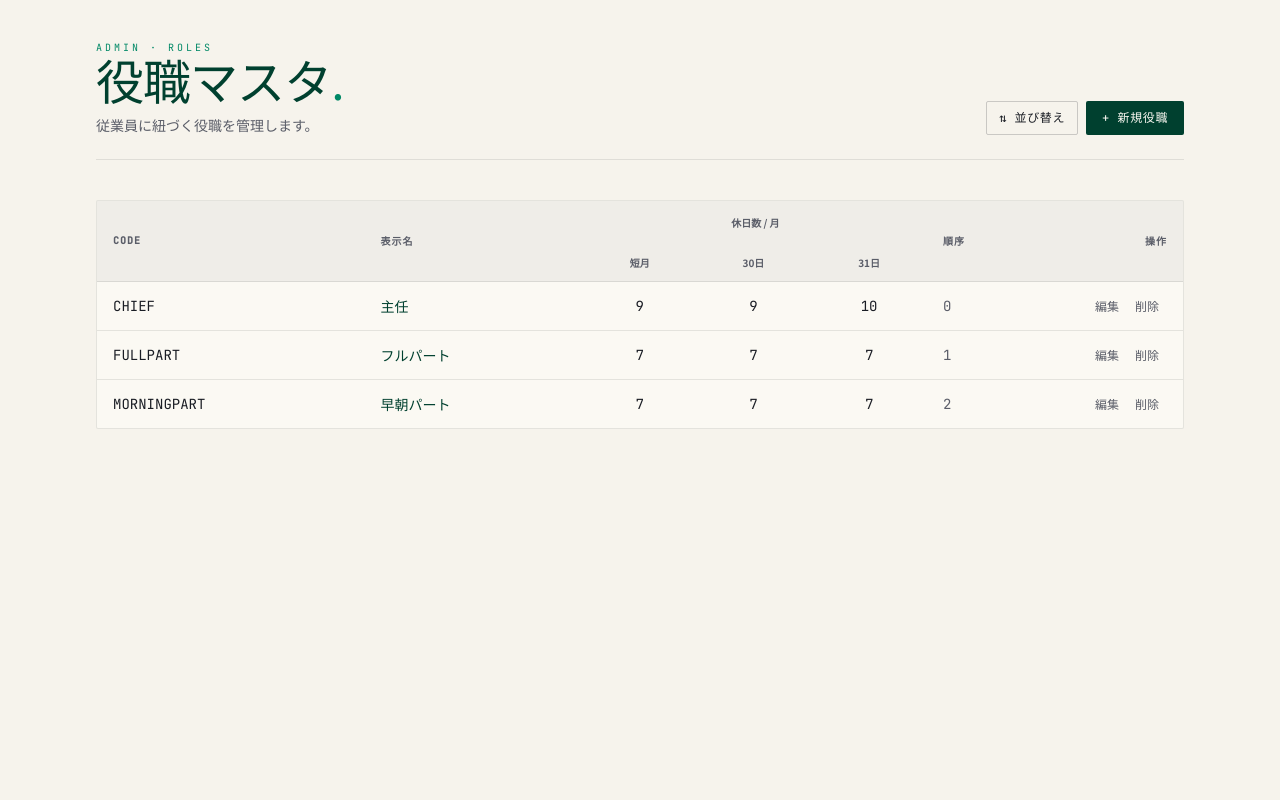
Scenario: RolesPage — modal edit (issue #235) › 編集 で modal が開き、3 input に現在値がプリフィルされる
The width and height of the screenshot is (1280, 800).
Check: the text "主任" is shown, box [364,282,584,330]
Note: CHIEF 行の編集ボタン
Click the button "編集" in the row of "CHIEF".
click(1107, 306)  # box [1087,294,1127,318]
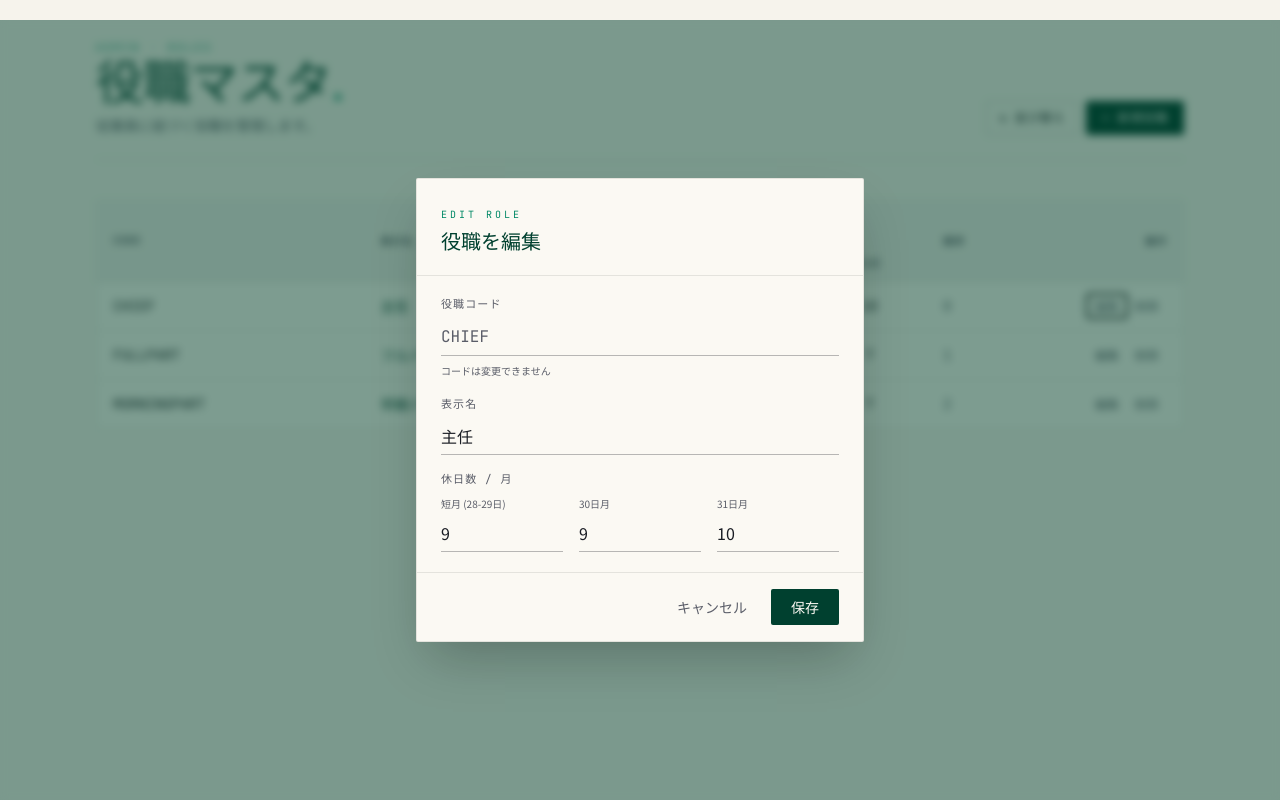
Check: the number field labelled "短月 (28-29日)" holds "9", box [441,515,563,552]
Check: the number field labelled "30日月" holds "9", box [579,515,701,552]
Check: the number field labelled "31日月" holds "10", box [717,515,839,552]
